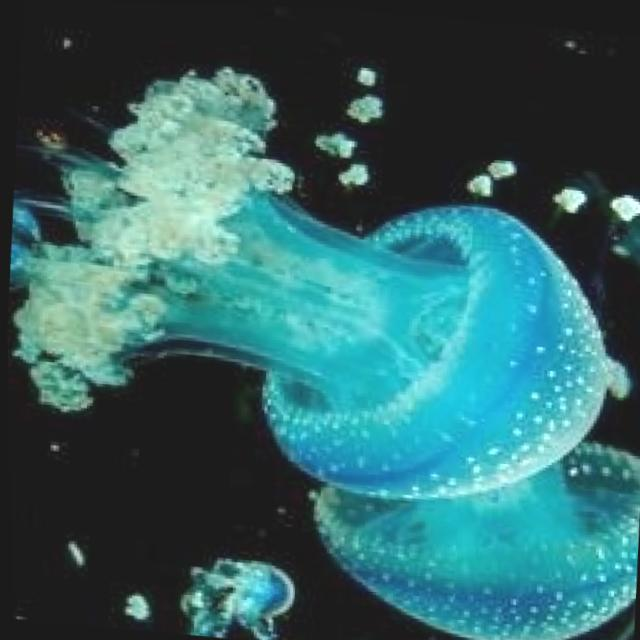Jellyfish: (1, 35, 618, 544)
